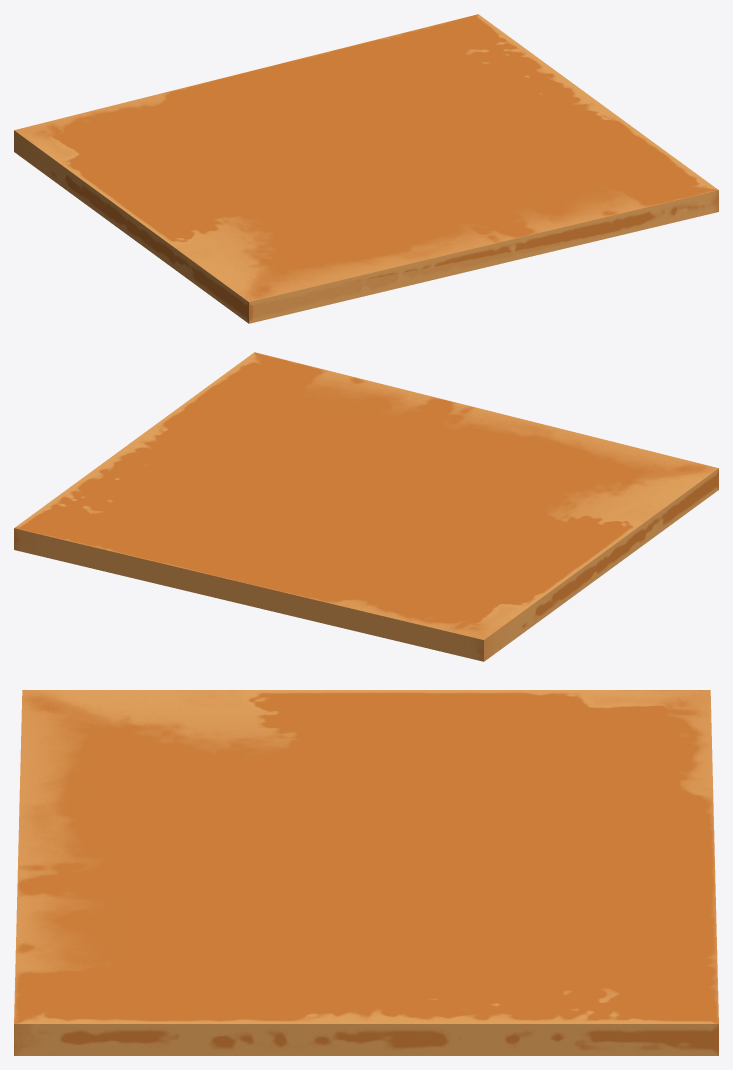
The model's file is ReceptionCounterLeaf.glb.
3 views of the same model, one above another, from view 1: azimuth 30°, elevation 25°; view 2: azimuth 150°, elevation 25°; view 3: azimuth 270°, elevation 25° (orthographic). The views are drawn at different scales.
Parts seen in each view (by area): view 1: ReceptionCOunterLeaf; view 2: ReceptionCOunterLeaf; view 3: ReceptionCOunterLeaf.
Part boxes in pixels (bbox=[...]): ReceptionCOunterLeaf: bbox=[14, 14, 718, 323]; ReceptionCOunterLeaf: bbox=[14, 352, 718, 661]; ReceptionCOunterLeaf: bbox=[14, 690, 718, 1055].
Size of the model in its own units: 0.9291 by 0.0412 by 0.8287.
1 material, 1 textured.
